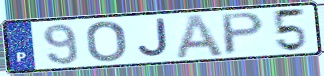5: (269, 7, 309, 53)
9: (40, 22, 81, 66)
A: (174, 13, 227, 61)
J: (136, 17, 172, 60)
O: (85, 19, 129, 64)
P: (220, 11, 267, 57)
